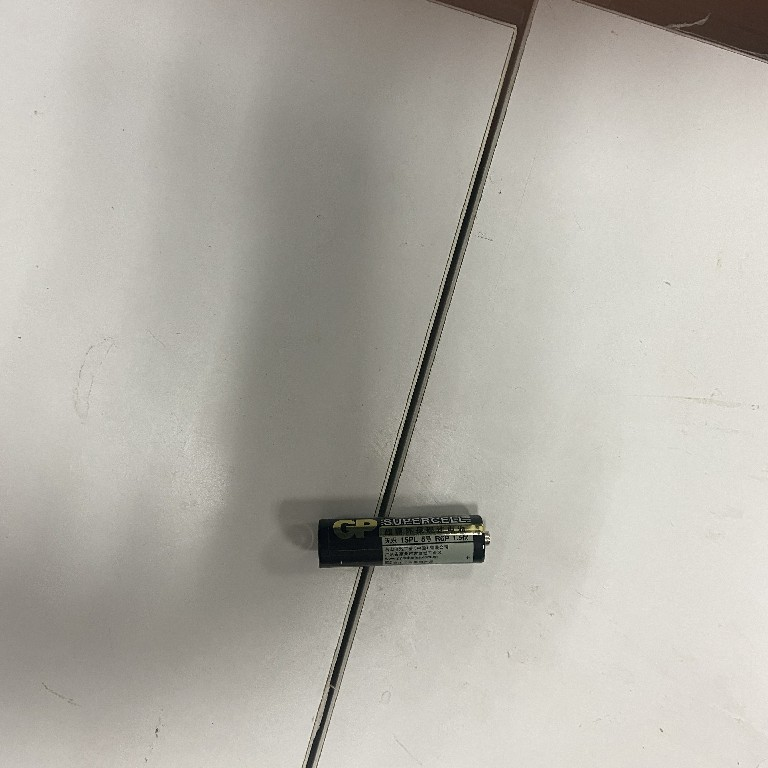charge: (313, 509, 496, 570)
